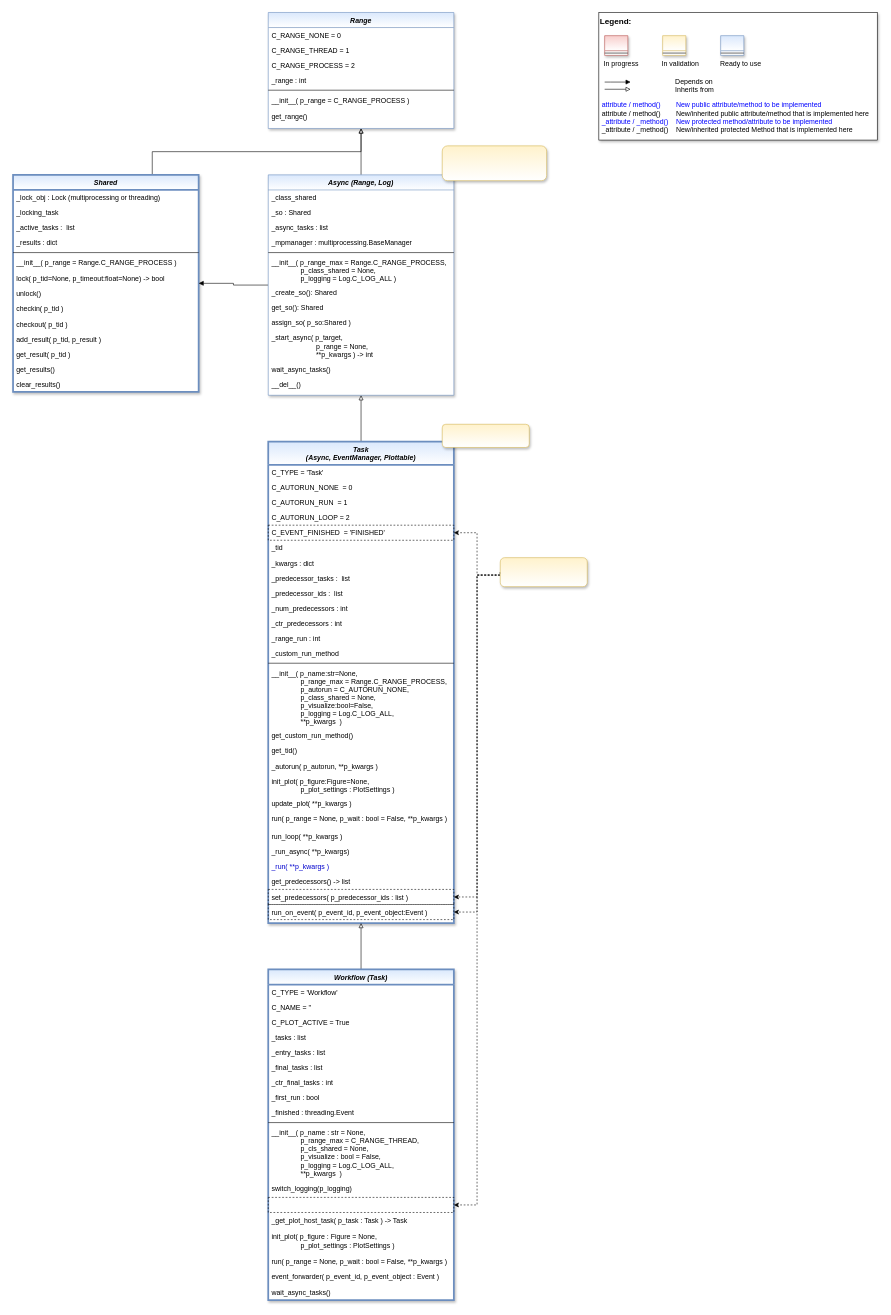
The diagram is 891 pixels wide and 1315 high, and some of its shapes have lost their labels. The centre of each missing label's shape, as x and y in pixels:
add_task( p_task : Task, p_pred_tasks : list = None ): (361,1204)
Enables the creation of event oriented task hierarchies.: (544,573)
Property class, that enables a child class to start asynchronous sub-functions: (494,164)
Template class for own (asynchronous) Tasks: (486,436)
